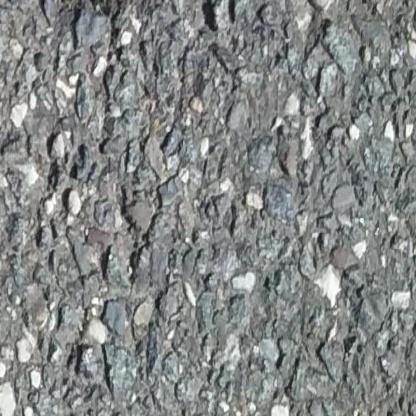Cracks: (44, 0, 186, 11)
